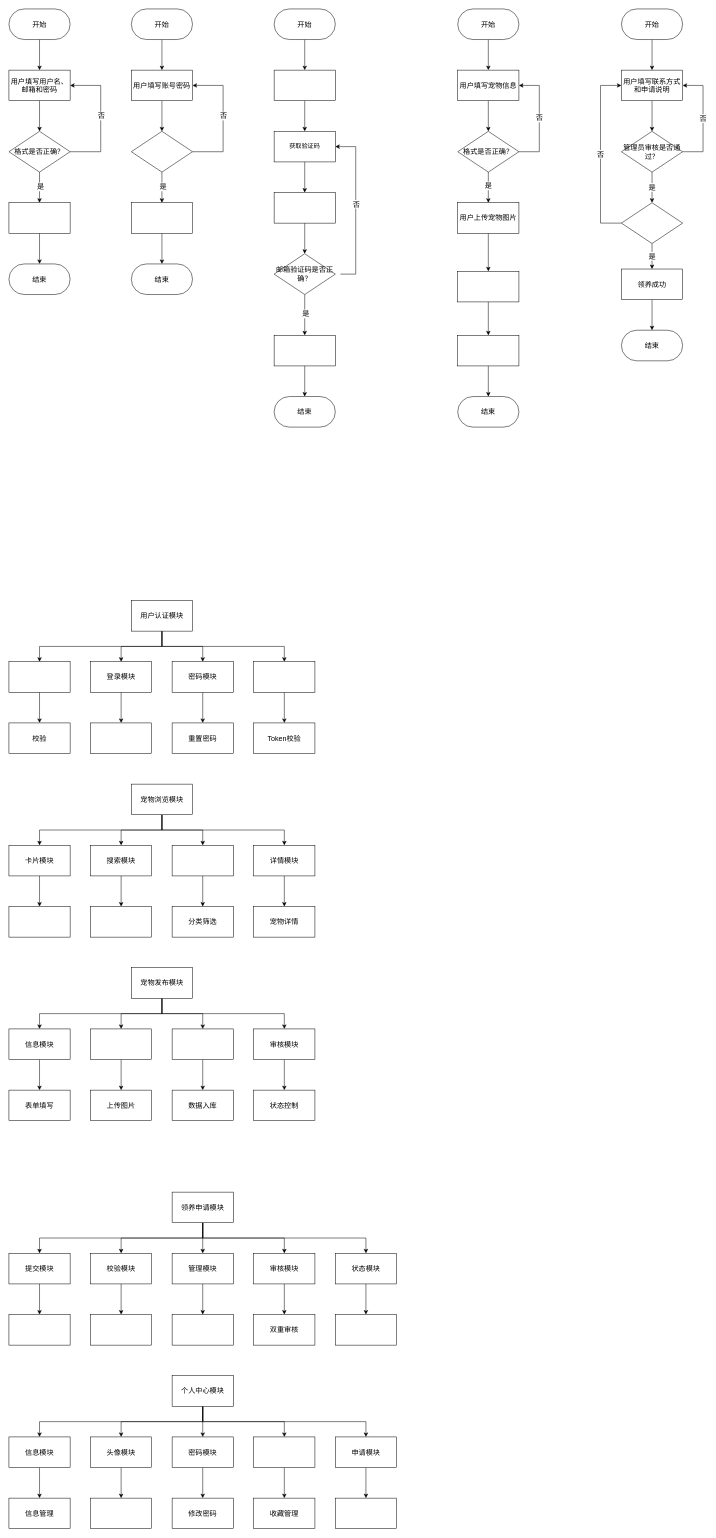
This 716x1538 diagram has some shape labels left out. The shapes that lost their labels are listed below. From the top down, each one's box as (x1, y1, x2, y2) in pixels, then its label:
(274, 70, 335, 101): 用户填写邮箱
(131, 131, 193, 172): 账号密码是否正确？
(8, 202, 70, 233): 注册成功
(131, 202, 193, 233): 登录成功
(274, 192, 335, 223): 用户填写验证码和新密码
(621, 202, 683, 244): 发布者审核是否通过？
(457, 271, 519, 302): 用户上传宠物体检报告
(274, 335, 335, 366): 修改成功
(457, 335, 519, 366): 用户确认勾选送养协议
(8, 661, 70, 692): 注册模块
(253, 661, 315, 692): 权限模块
(90, 722, 152, 754): 密码/JWT
(172, 845, 233, 876): 分类模块
(8, 906, 70, 937): 分页
(90, 906, 152, 937): 关键词
(90, 1028, 152, 1060): 图片模块
(172, 1028, 233, 1060): 数据模块
(8, 1314, 70, 1345): 填写申请
(90, 1314, 152, 1345): 校验逻辑
(172, 1314, 233, 1345): 数据存储
(335, 1314, 397, 1345): 状态流转
(253, 1436, 315, 1468): 关注模块
(90, 1498, 152, 1529): 上传头像
(335, 1498, 397, 1529): 申请记录
